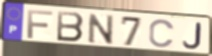7: (120, 15, 144, 47)
B: (56, 10, 86, 44)
C: (148, 18, 176, 49)
F: (26, 9, 54, 40)
J: (181, 22, 202, 50)
N: (87, 12, 115, 45)
